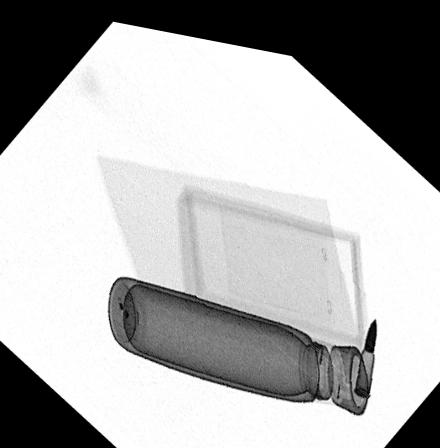Bullet: (352, 301, 377, 383)
